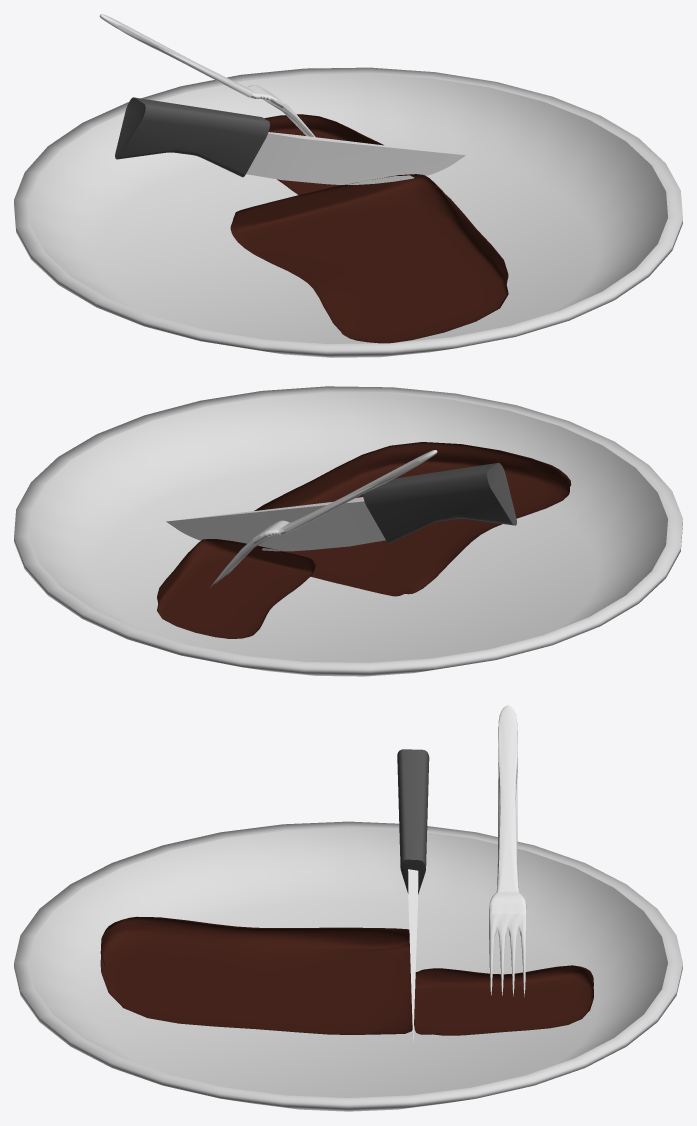
Rendered from Petermeattrial3.glb.
The picture shows the model from 3 angles, top to bottom: view 1: azimuth 30°, elevation 25°; view 2: azimuth 150°, elevation 25°; view 3: azimuth 270°, elevation 25°; orthographic projection.
Parts seen in each view (by area): view 1: Cylinder.009, Cube.005, Cube.002, Cube.008, Cube.006, Cube.007; view 2: Cylinder.009, Cube.005, Cube.006, Cube.002, Cube.008, Cube.007; view 3: Cylinder.009, Cube.005, Cube.006, Cube.007, Cube.002, Cube.008.
Part boxes in pixels (x1=…): Cylinder.009: x1=14, y1=67, x2=682, y2=357; Cube.005: x1=230, y1=174, x2=508, y2=343; Cube.002: x1=115, y1=97, x2=269, y2=177; Cube.008: x1=246, y1=132, x2=465, y2=184; Cube.006: x1=264, y1=114, x2=383, y2=206; Cube.007: x1=99, y1=14, x2=315, y2=137; Cylinder.009: x1=14, y1=386, x2=682, y2=676; Cube.005: x1=254, y1=442, x2=571, y2=596; Cube.006: x1=157, y1=539, x2=315, y2=638; Cube.002: x1=363, y1=462, x2=516, y2=543; Cube.008: x1=166, y1=497, x2=385, y2=551; Cube.007: x1=209, y1=450, x2=437, y2=588; Cylinder.009: x1=14, y1=821, x2=682, y2=1111; Cube.005: x1=100, y1=916, x2=414, y2=1034; Cube.006: x1=414, y1=965, x2=593, y2=1035; Cube.007: x1=489, y1=705, x2=526, y2=996; Cube.002: x1=397, y1=749, x2=429, y2=894; Cube.008: x1=408, y1=869, x2=418, y2=1042.
Size of what is drawn, in the model's own units: 2.47 by 0.8926 by 2.47.
